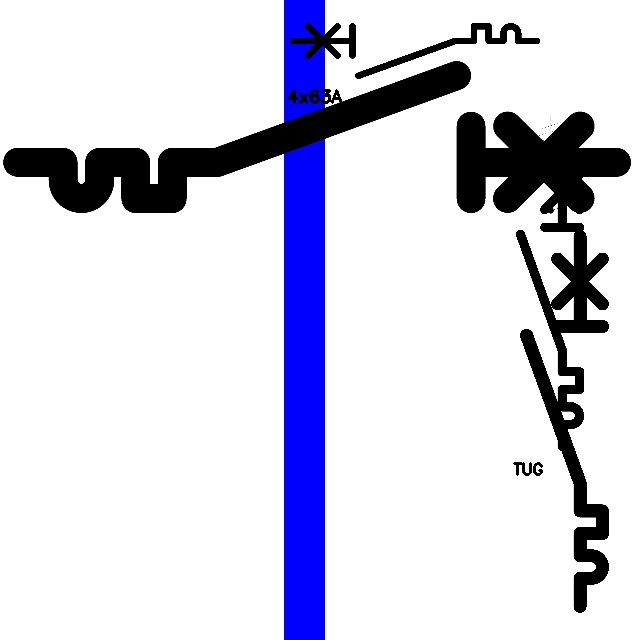interruptor_termomagnetico: (2, 60, 632, 214), (517, 227, 612, 616), (513, 149, 587, 454), (287, 20, 543, 82)
